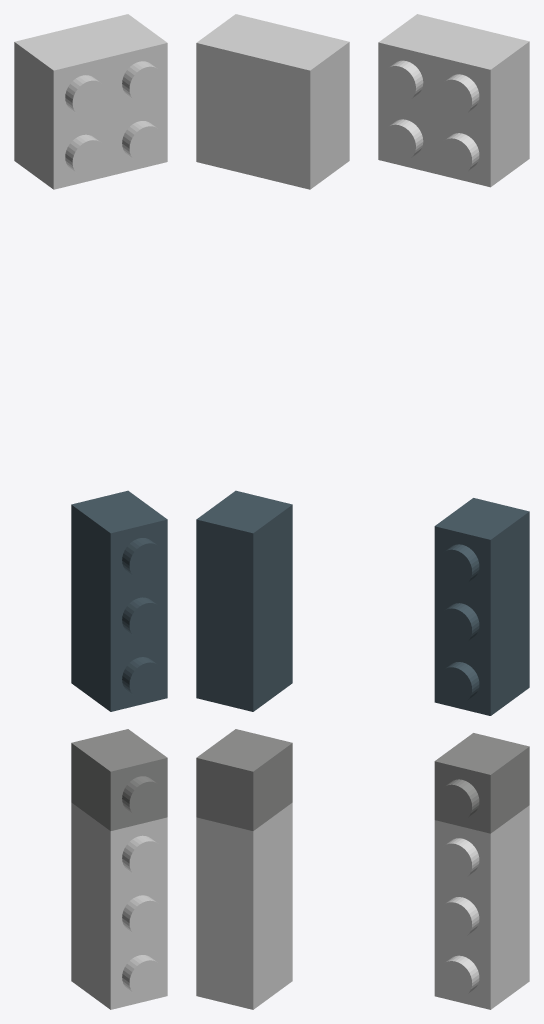
The model's file is current.glb.
The picture shows the model from 3 angles, left to right: view 1: azimuth 30°, elevation 25°; view 2: azimuth 150°, elevation 25°; view 3: azimuth 330°, elevation 25°; orthographic projection.
Parts seen in each view (by area): view 1: world; view 2: world; view 3: world.
Boxes of the visible parts, box(x1,y1,x2,y2) form: world: box(14, 14, 167, 1009); world: box(196, 14, 349, 1009); world: box(378, 14, 529, 1009).
Bounding box in the file's own units: 16 × 128 × 11.4.
